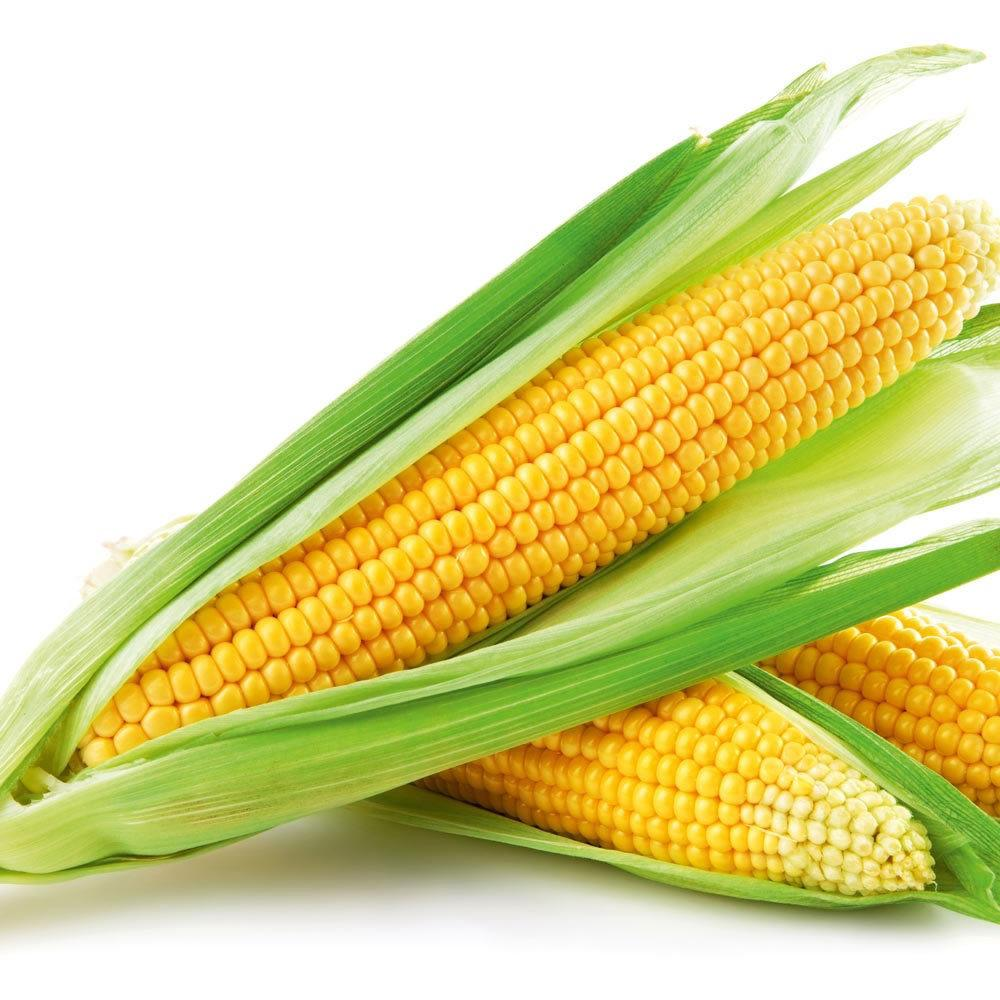sweetcorn: (66, 188, 997, 778), (14, 506, 997, 903), (410, 671, 940, 899), (751, 603, 998, 820)
